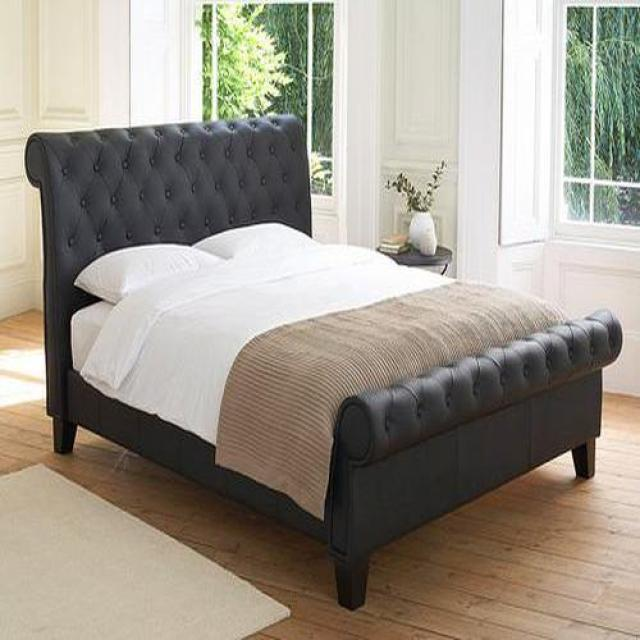bed: (24, 119, 625, 612)
